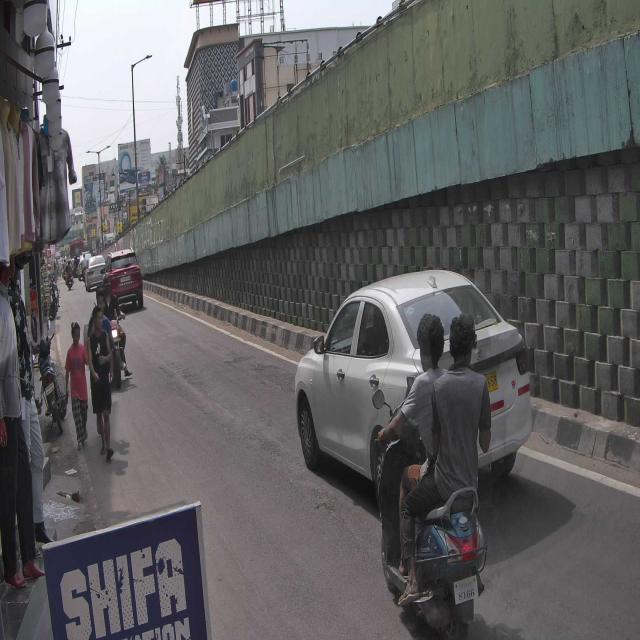double_rider: (369, 309, 494, 640)
